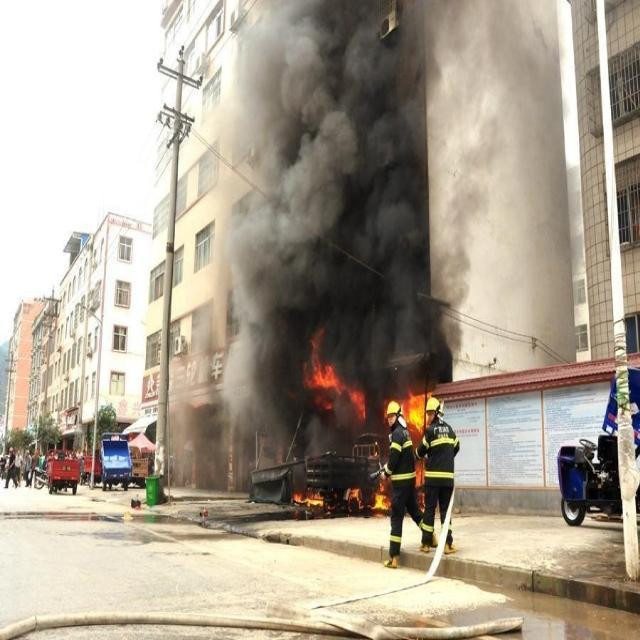Fire: (300, 337, 366, 422), (399, 386, 434, 434), (292, 488, 324, 508), (370, 490, 390, 512), (348, 488, 364, 510)
Smoke: (165, 1, 575, 327), (170, 328, 298, 487)
